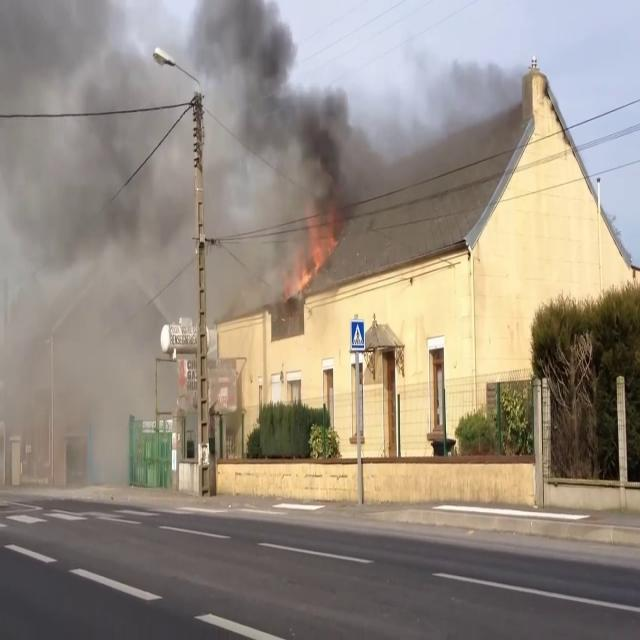Fire: (292, 212, 341, 292)
Smoke: (0, 0, 188, 469), (194, 0, 376, 284)
